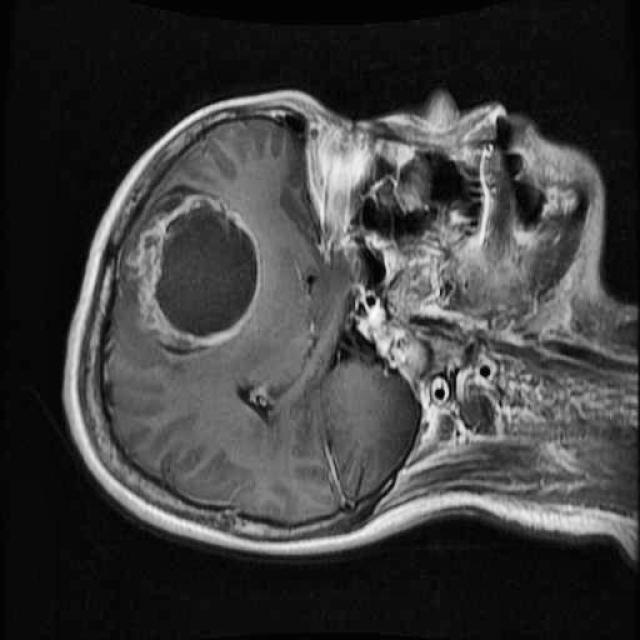Tumor: (117, 172, 285, 362)
